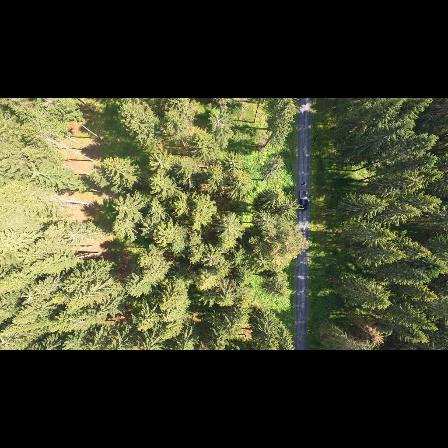Sick: (254, 207, 280, 234), (205, 110, 234, 134), (150, 150, 173, 174), (251, 250, 274, 274), (201, 245, 222, 270)
